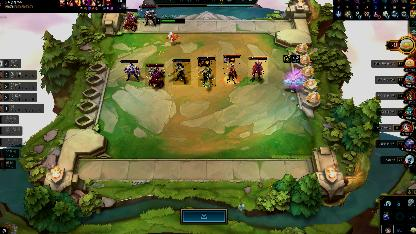1_jax: (198, 57, 216, 87)
1_nasus: (173, 59, 191, 85)
1_rakan: (223, 54, 241, 86)
1_sejuani: (145, 63, 165, 89), (122, 9, 138, 31)
1_sylas: (120, 58, 142, 84), (140, 4, 156, 28)
1_zippy: (248, 56, 268, 84)
